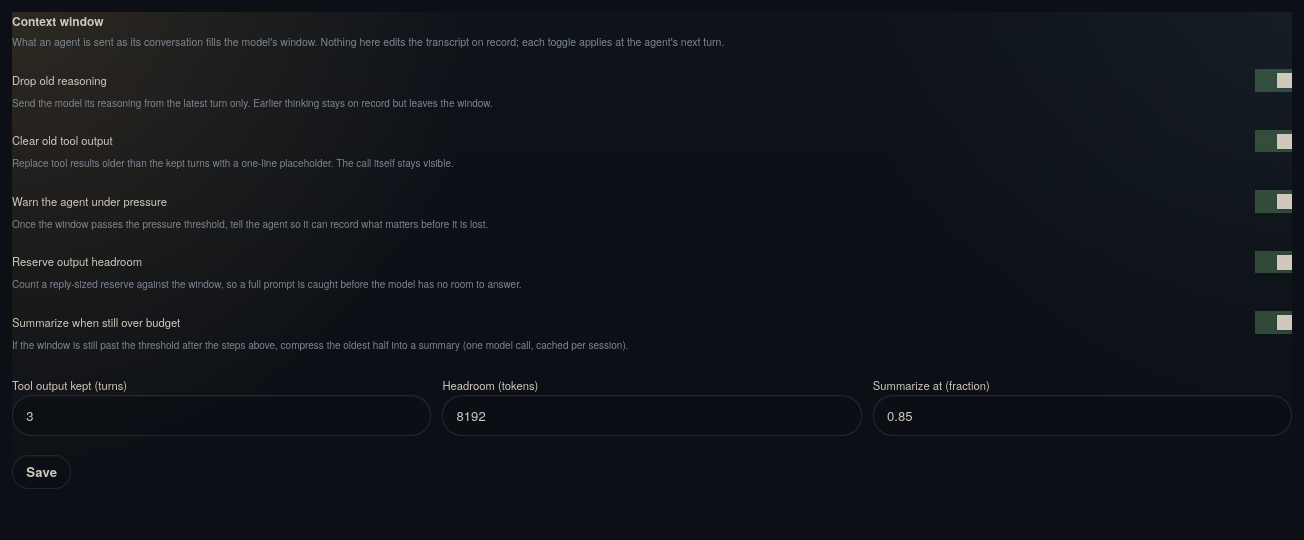
ContextSettings › loads the toggles from the API and saves a flipped one back as a full PUT
The width and height of the screenshot is (1304, 540).
Click the switch named "drop old reasoning" in the row of "Drop old reasoning": click(1273, 81) [1254, 69, 1292, 92]
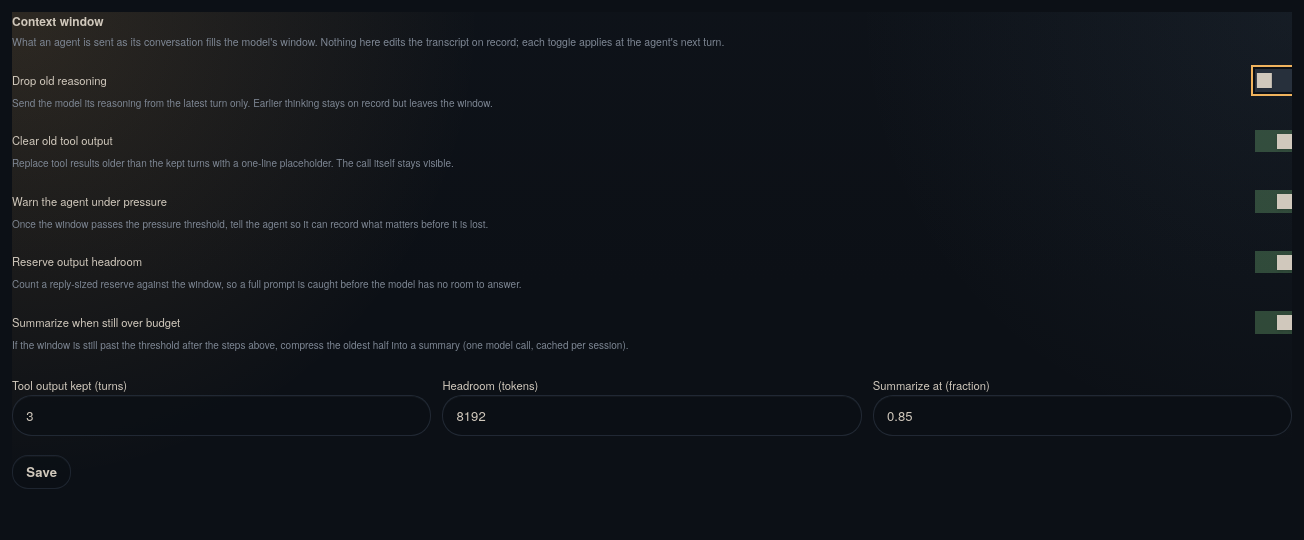
Click the button "Save": click(42, 472) [12, 455, 72, 489]
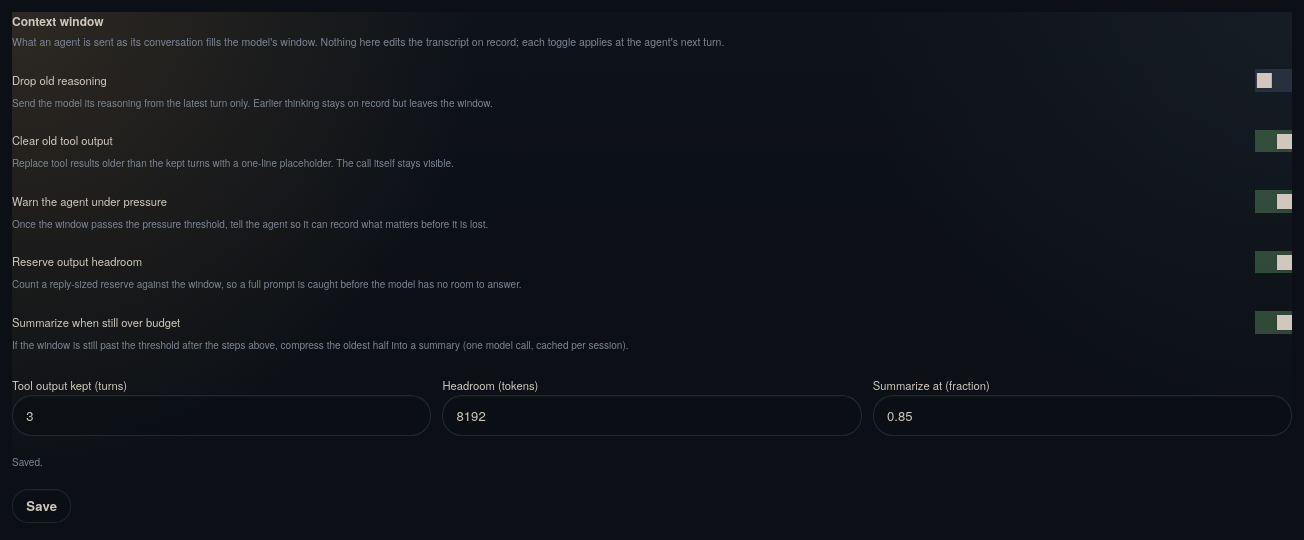
expect the text "Saved." is shown: met, box [12, 455, 43, 469]
